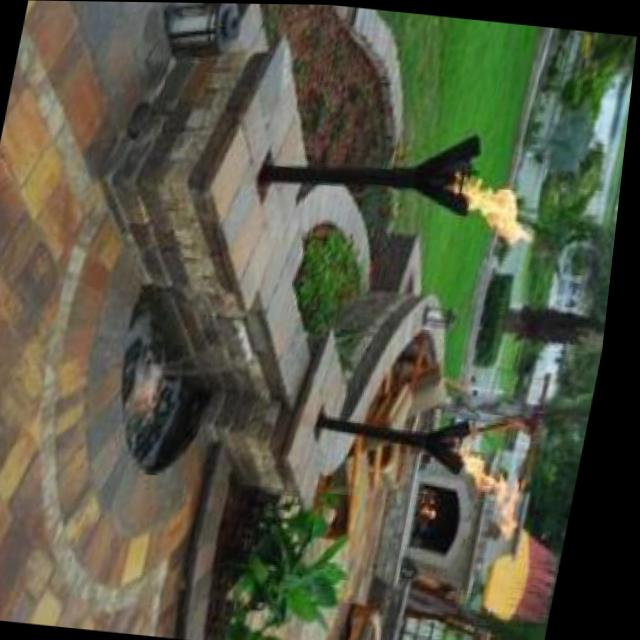Fire: (444, 437, 548, 538), (454, 165, 560, 253)
